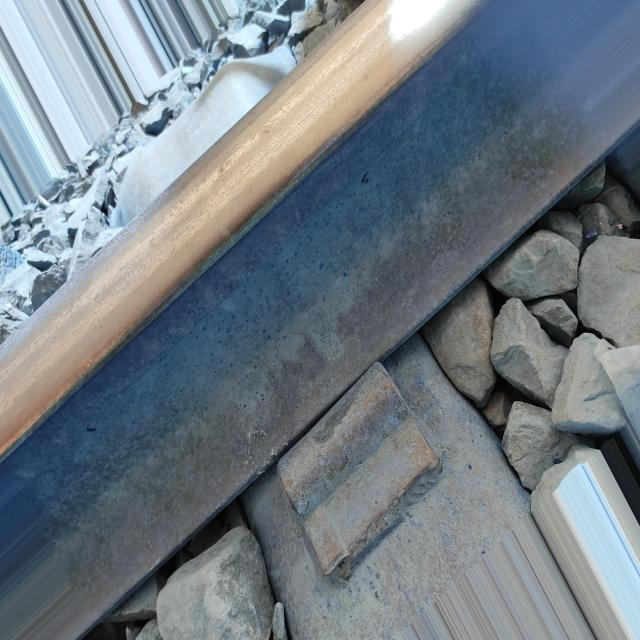Missing Fastener: (263, 338, 464, 609)
